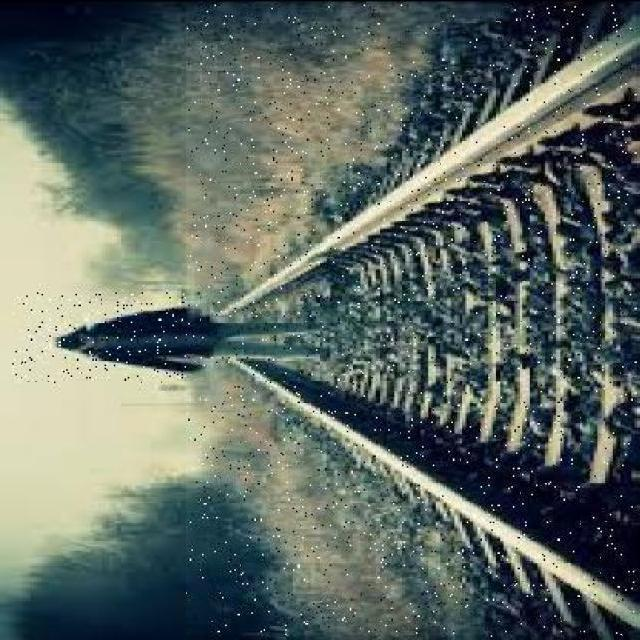rail: (187, 5, 637, 636)
